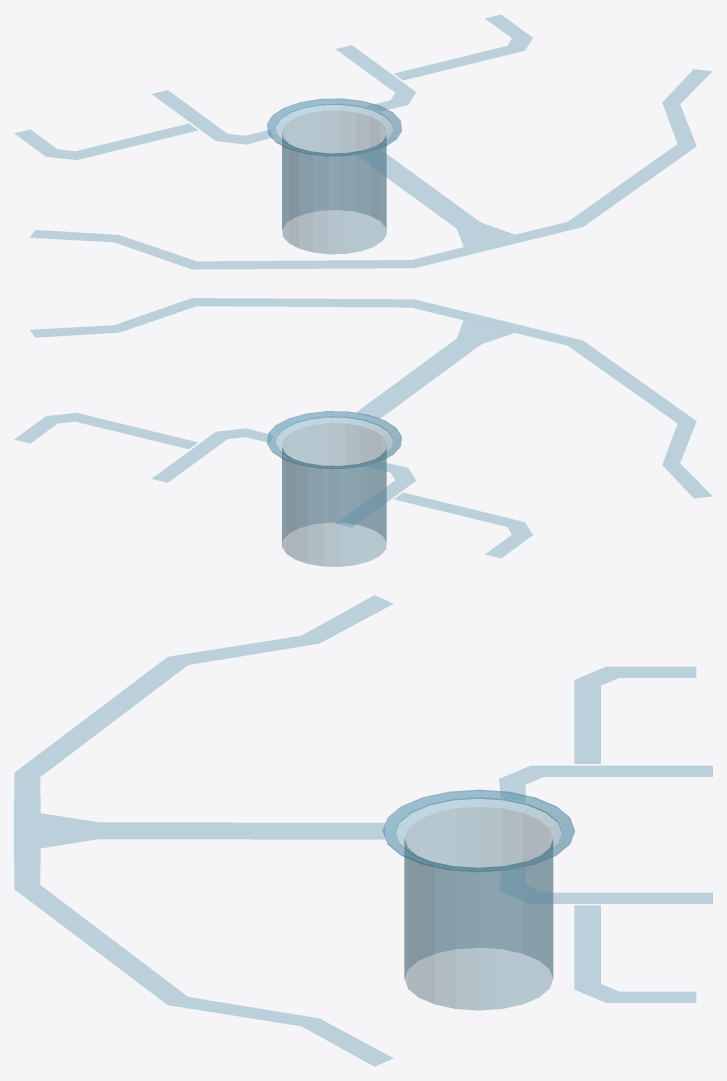
Rendered from Aquaduct_water.fbx.
3 renders of one model, top to bottom at view 1: azimuth 30°, elevation 25°; view 2: azimuth 150°, elevation 25°; view 3: azimuth 270°, elevation 25°, orthographic. The views are drawn at different scales.
Parts seen in each view (by area): view 1: water_Circle.001, aquaduct.water, Aquaduct_inside.004, water.003; view 2: water_Circle.001, aquaduct.water, Aquaduct_inside.004, water.003; view 3: water_Circle.001, aquaduct.water, Aquaduct_inside.004, water.003.
Part boxes in pixels (bbox=[...]): water_Circle.001: bbox=[267, 98, 401, 253]; aquaduct.water: bbox=[30, 69, 712, 269]; Aquaduct_inside.004: bbox=[14, 15, 532, 159]; water.003: bbox=[152, 45, 415, 144]; water_Circle.001: bbox=[267, 411, 401, 566]; aquaduct.water: bbox=[30, 298, 711, 497]; Aquaduct_inside.004: bbox=[14, 413, 532, 557]; water.003: bbox=[152, 428, 415, 527]; water_Circle.001: bbox=[382, 789, 574, 1010]; aquaduct.water: bbox=[14, 595, 392, 1066]; Aquaduct_inside.004: bbox=[574, 667, 695, 1002]; water.003: bbox=[499, 766, 712, 903].
Size of the model in its own units: 66.74 by 9.83 by 41.8.
